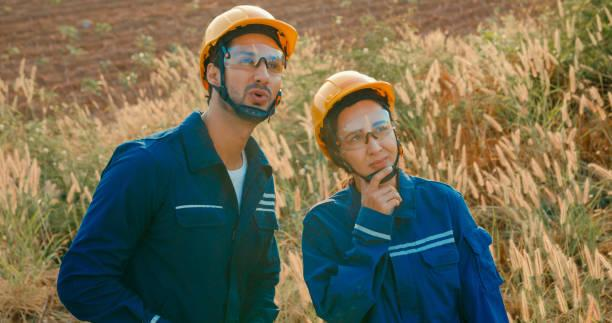goggle: (331, 112, 404, 164), (220, 45, 295, 79)
helmet: (185, 0, 302, 92), (300, 63, 405, 164)
vest: (55, 109, 293, 323), (300, 169, 513, 323)
